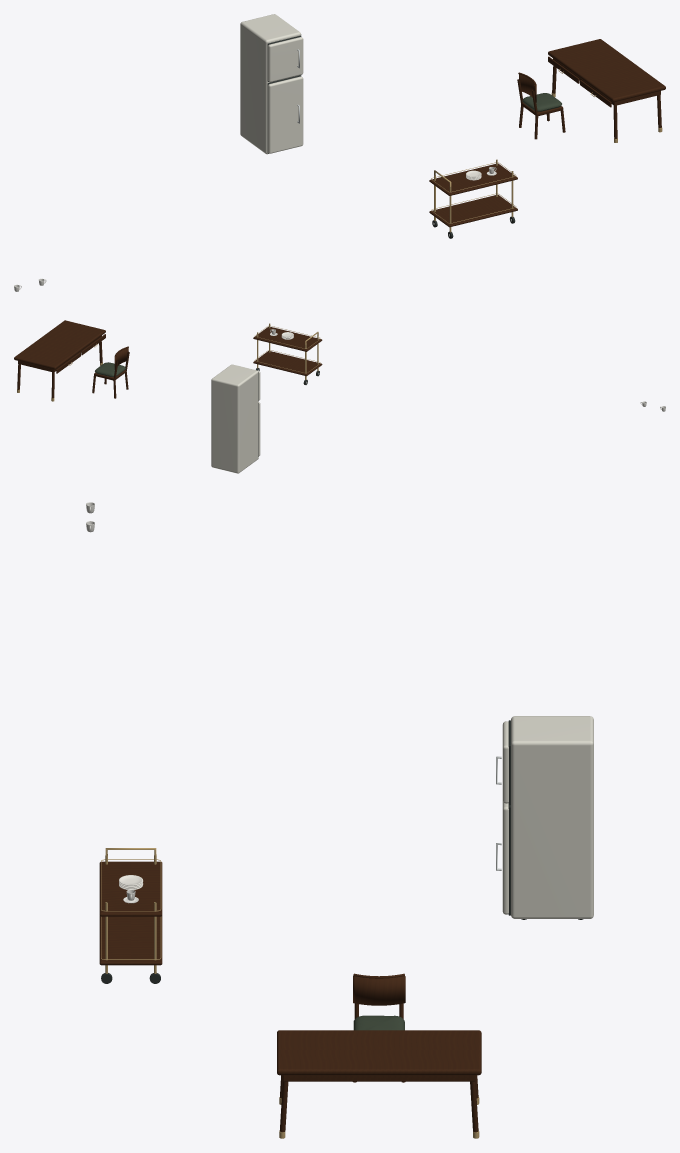
File: suite-details-316.glb
3 renders of one model, top to bottom at view 1: azimuth 30°, elevation 25°; view 2: azimuth 150°, elevation 25°; view 3: azimuth 270°, elevation 25°, orthographic. The views are drawn at different scales.
Visible parts, largest first — view 1: Crafted | Appliance | enamel ivory, Crafted | Walnut | cut veneer.009, Crafted | Walnut | cut veneer.011, Crafted | Walnut | cut veneer.010, Crafted | Aged champagne brass.010, Crafted | Sage | woven upholstery.003; view 2: Crafted | Appliance | enamel ivory, Crafted | Walnut | cut veneer.009, Crafted | Walnut | cut veneer.011, Crafted | Walnut | cut veneer.010, Crafted | Aged champagne brass.010, Crafted | Sage | woven upholstery.003; view 3: Crafted | Appliance | enamel ivory, Crafted | Walnut | cut veneer.009, Crafted | Walnut | cut veneer.011, Crafted | Walnut | cut veneer.010, Crafted | Aged champagne brass.010.
Boxes of the visible parts, x1=… form: Crafted | Appliance | enamel ivory: x1=240, y1=14, x2=303, y2=154; Crafted | Walnut | cut veneer.009: x1=548, y1=39, x2=665, y2=138; Crafted | Walnut | cut veneer.011: x1=429, y1=163, x2=517, y2=227; Crafted | Walnut | cut veneer.010: x1=517, y1=72, x2=565, y2=139; Crafted | Aged champagne brass.010: x1=431, y1=159, x2=516, y2=232; Crafted | Sage | woven upholstery.003: x1=522, y1=93, x2=561, y2=111; Crafted | Appliance | enamel ivory: x1=211, y1=364, x2=260, y2=473; Crafted | Walnut | cut veneer.009: x1=14, y1=320, x2=105, y2=398; Crafted | Walnut | cut veneer.011: x1=253, y1=326, x2=322, y2=376; Crafted | Walnut | cut veneer.010: x1=92, y1=346, x2=129, y2=398; Crafted | Aged champagne brass.010: x1=254, y1=323, x2=320, y2=379; Crafted | Sage | woven upholstery.003: x1=95, y1=362, x2=125, y2=376; Crafted | Appliance | enamel ivory: x1=502, y1=716, x2=593, y2=918; Crafted | Walnut | cut veneer.009: x1=277, y1=1030, x2=481, y2=1132; Crafted | Walnut | cut veneer.011: x1=99, y1=861, x2=162, y2=965; Crafted | Walnut | cut veneer.010: x1=353, y1=973, x2=405, y2=1082; Crafted | Aged champagne brass.010: x1=101, y1=848, x2=161, y2=973.
Size of the model in its own units: 12.64 by 1.96 by 5.01.
Materials: 8 (2 with a texture image).
